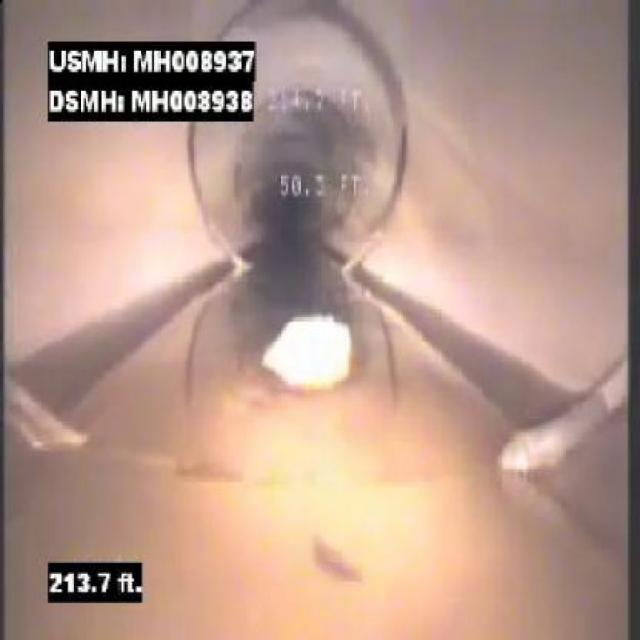Debris: (220, 272, 389, 443)
